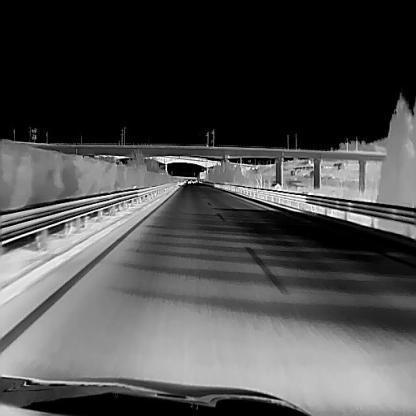car: (186, 177, 191, 183)
